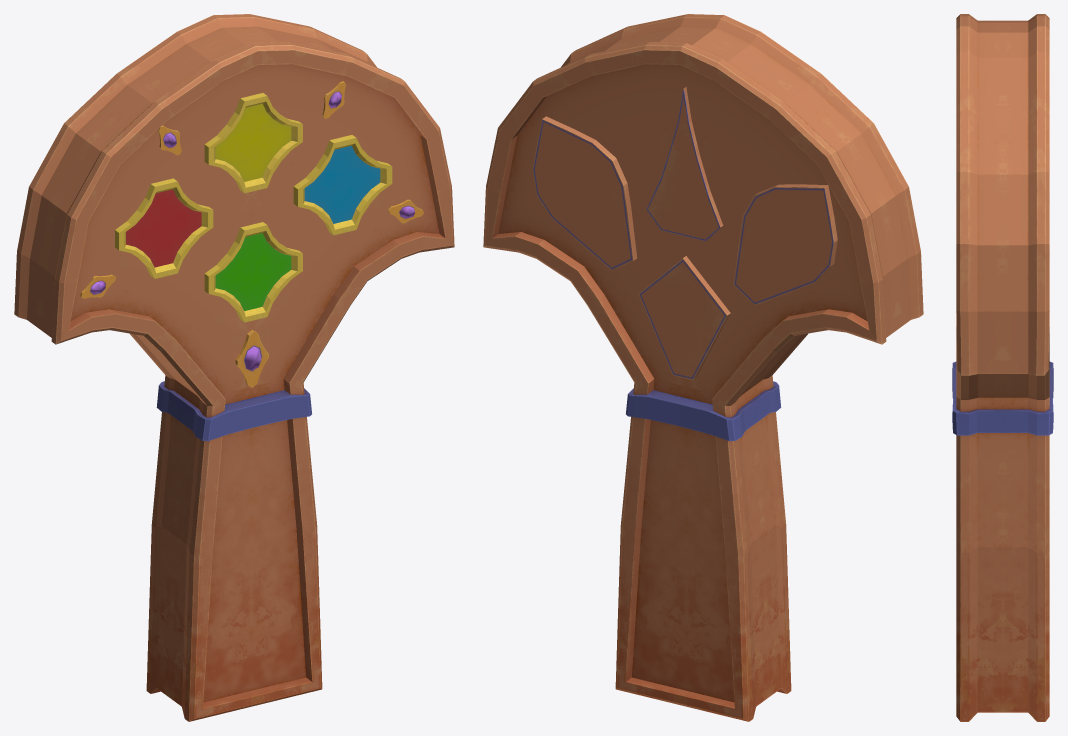
Rendered from SM_Plate_001 1.fbx.
3 views of the same model, side by side, from view 1: azimuth 30°, elevation 25°; view 2: azimuth 150°, elevation 25°; view 3: azimuth 270°, elevation 25° (orthographic).
Parts seen in each view (by area): view 1: SM_Plate_001, SM_Losange_003, SM_Losange_004, SM_Losange_001, SM_Losange_002, SM_Gem_001; view 2: SM_Plate_001, SM_Symbole_001; view 3: SM_Plate_001.
Part boxes in pixels (x1,y1,x2,y2): SM_Plate_001: (14, 14, 454, 721); SM_Losange_003: (293, 135, 392, 235); SM_Losange_004: (204, 222, 302, 322); SM_Losange_001: (115, 178, 213, 278); SM_Losange_002: (204, 93, 302, 193); SM_Gem_001: (80, 81, 423, 387); SM_Plate_001: (483, 14, 923, 721); SM_Symbole_001: (533, 87, 837, 379); SM_Plate_001: (952, 14, 1053, 721).
Size of the model in its own units: 111 by 175 by 24.18.
